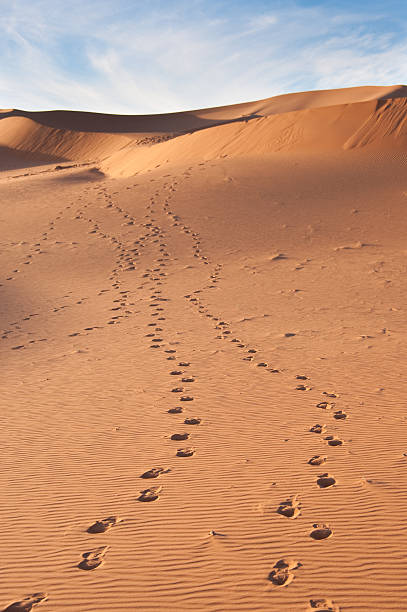human_foot_print: (212, 329, 261, 367), (155, 304, 178, 364), (193, 299, 228, 334), (268, 559, 300, 586), (3, 592, 47, 611), (173, 380, 198, 413), (78, 546, 108, 570), (87, 516, 118, 533), (277, 496, 300, 517), (160, 359, 201, 370), (307, 598, 338, 611), (138, 486, 161, 501), (309, 524, 332, 539), (140, 467, 166, 478), (317, 473, 335, 488), (308, 455, 326, 465), (324, 435, 342, 445), (176, 447, 194, 456), (170, 432, 189, 440)
